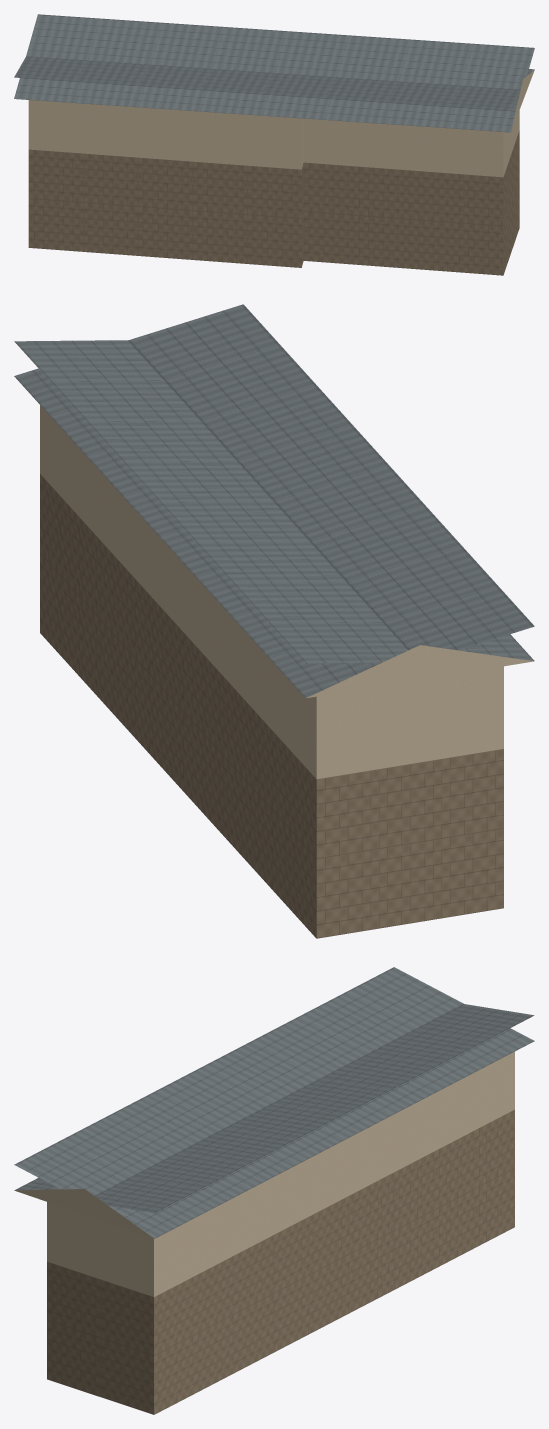
File: bld_c36_48_193.gltf
The picture shows the model from 3 angles, top to bottom: view 1: azimuth 30°, elevation 25°; view 2: azimuth 150°, elevation 25°; view 3: azimuth 270°, elevation 25°; orthographic projection. The views are drawn at different scales.
Parts seen in each view (by area): view 1: bld_c36_48_193; view 2: bld_c36_48_193; view 3: bld_c36_48_193.
Part boxes in pixels (<box>): bld_c36_48_193: <box>14,14,534,275</box>; bld_c36_48_193: <box>14,304,534,938</box>; bld_c36_48_193: <box>14,967,534,1414</box>.
Size of the model in its own units: 20.52 by 8.2 by 18.35.
Materials: 4 (4 with a texture image).
